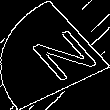N_SE: (13, 22, 97, 88)
